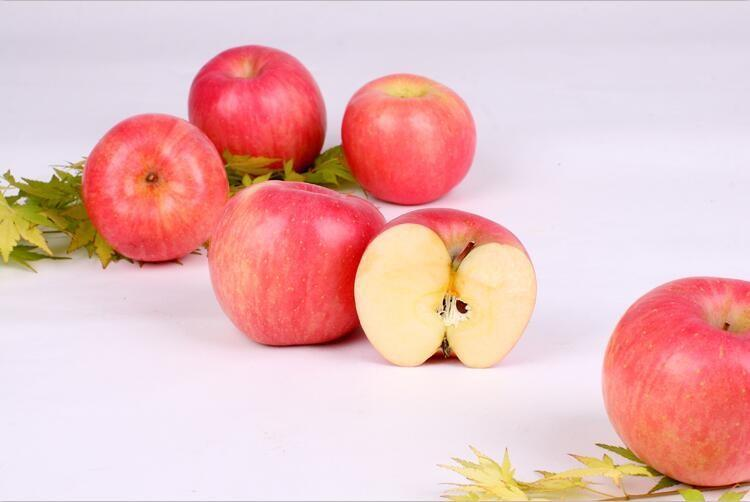apple: (599, 276, 748, 490), (204, 177, 386, 349), (79, 112, 228, 264), (187, 43, 325, 188), (339, 71, 476, 204)
